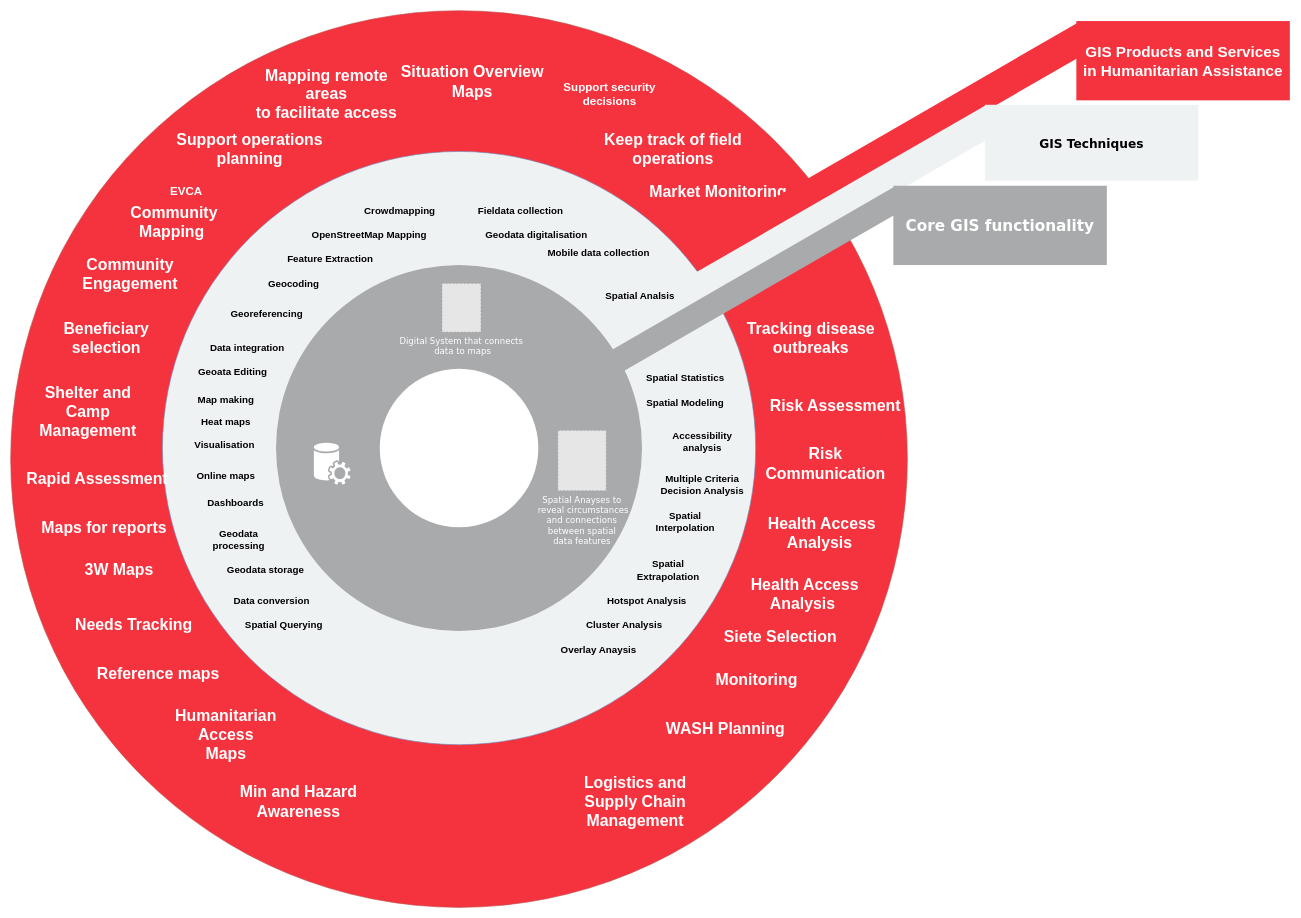
Image size: 1301x918. Some labels were removed from this diagram. Grey dashed boxes stand in for pictures. Each missing label, with the centre of its shape:
GIS in Humanitarian Assistance: point 458,447
Visualisation, Organisation and processing of spatial data: point 332,463
